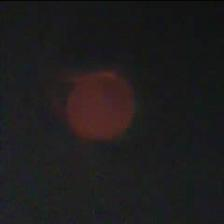fertile: (64, 68, 138, 144)
